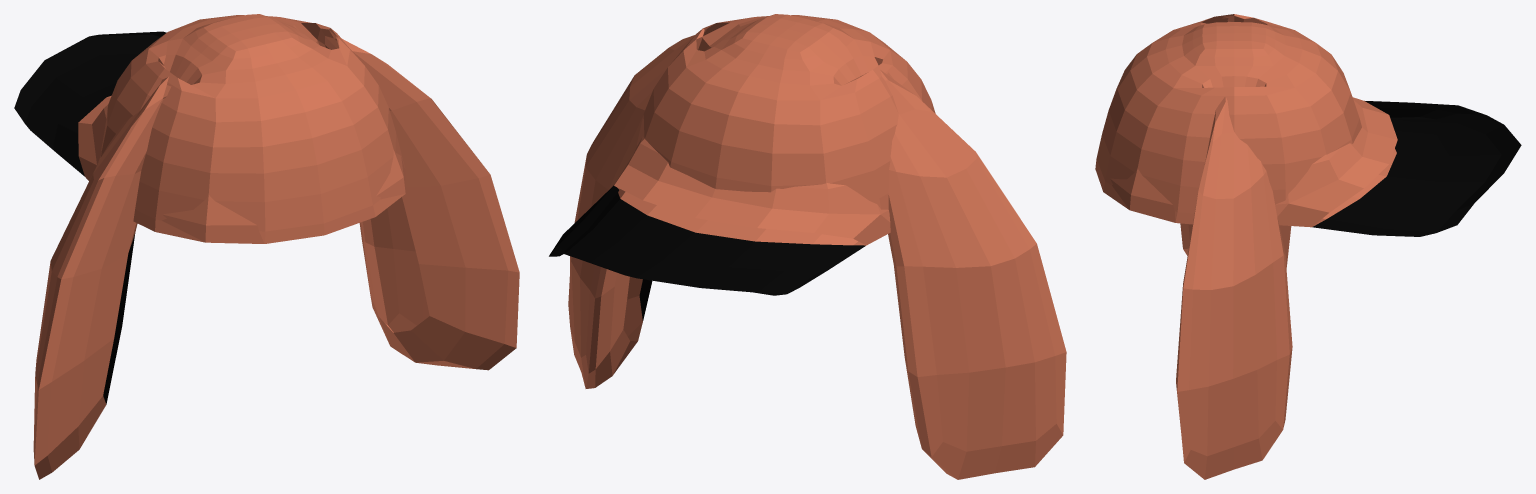
Rendered from chapeu_2.fbx.
3 views of the same model, side by side, from view 1: azimuth 30°, elevation 25°; view 2: azimuth 150°, elevation 25°; view 3: azimuth 270°, elevation 25° (orthographic). The views are drawn at different scales.
Parts seen in each view (by area): view 1: chapeu 14; view 2: chapeu 14; view 3: chapeu 14.
Boxes of the visible parts, x1,y1,x2,y2 form: chapeu 14: (14,14,519,479); chapeu 14: (549,14,1066,479); chapeu 14: (1095,14,1521,479).
Size of the model in its own units: 521 by 397 by 441.
